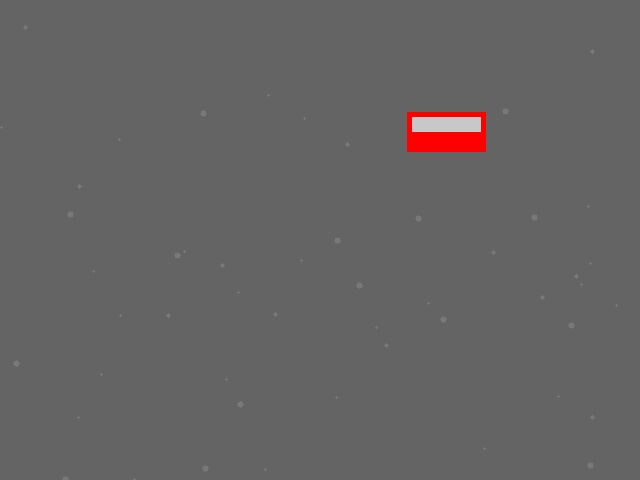car: (407, 112, 485, 151)
